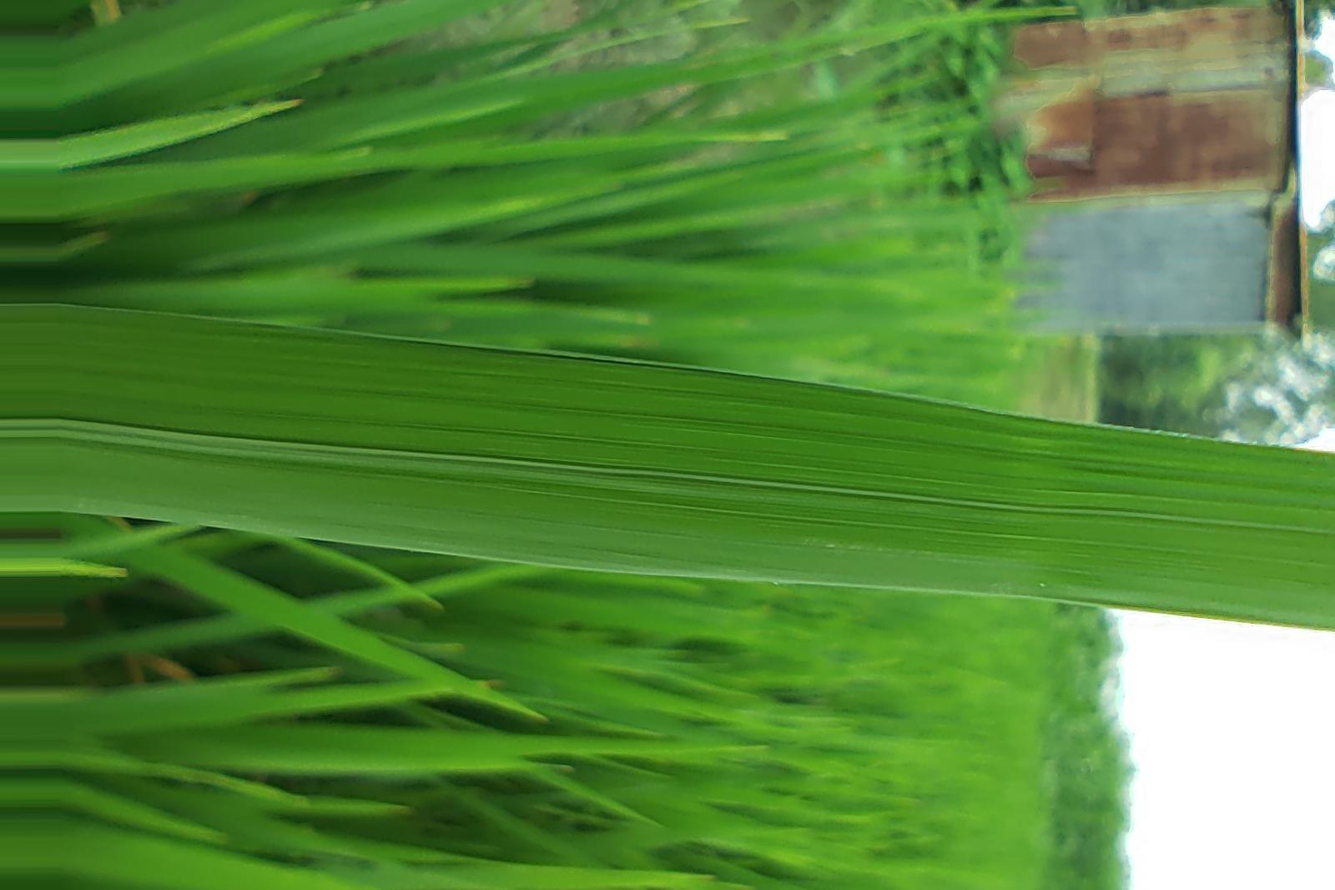Healthy: (62, 306, 1334, 627)
